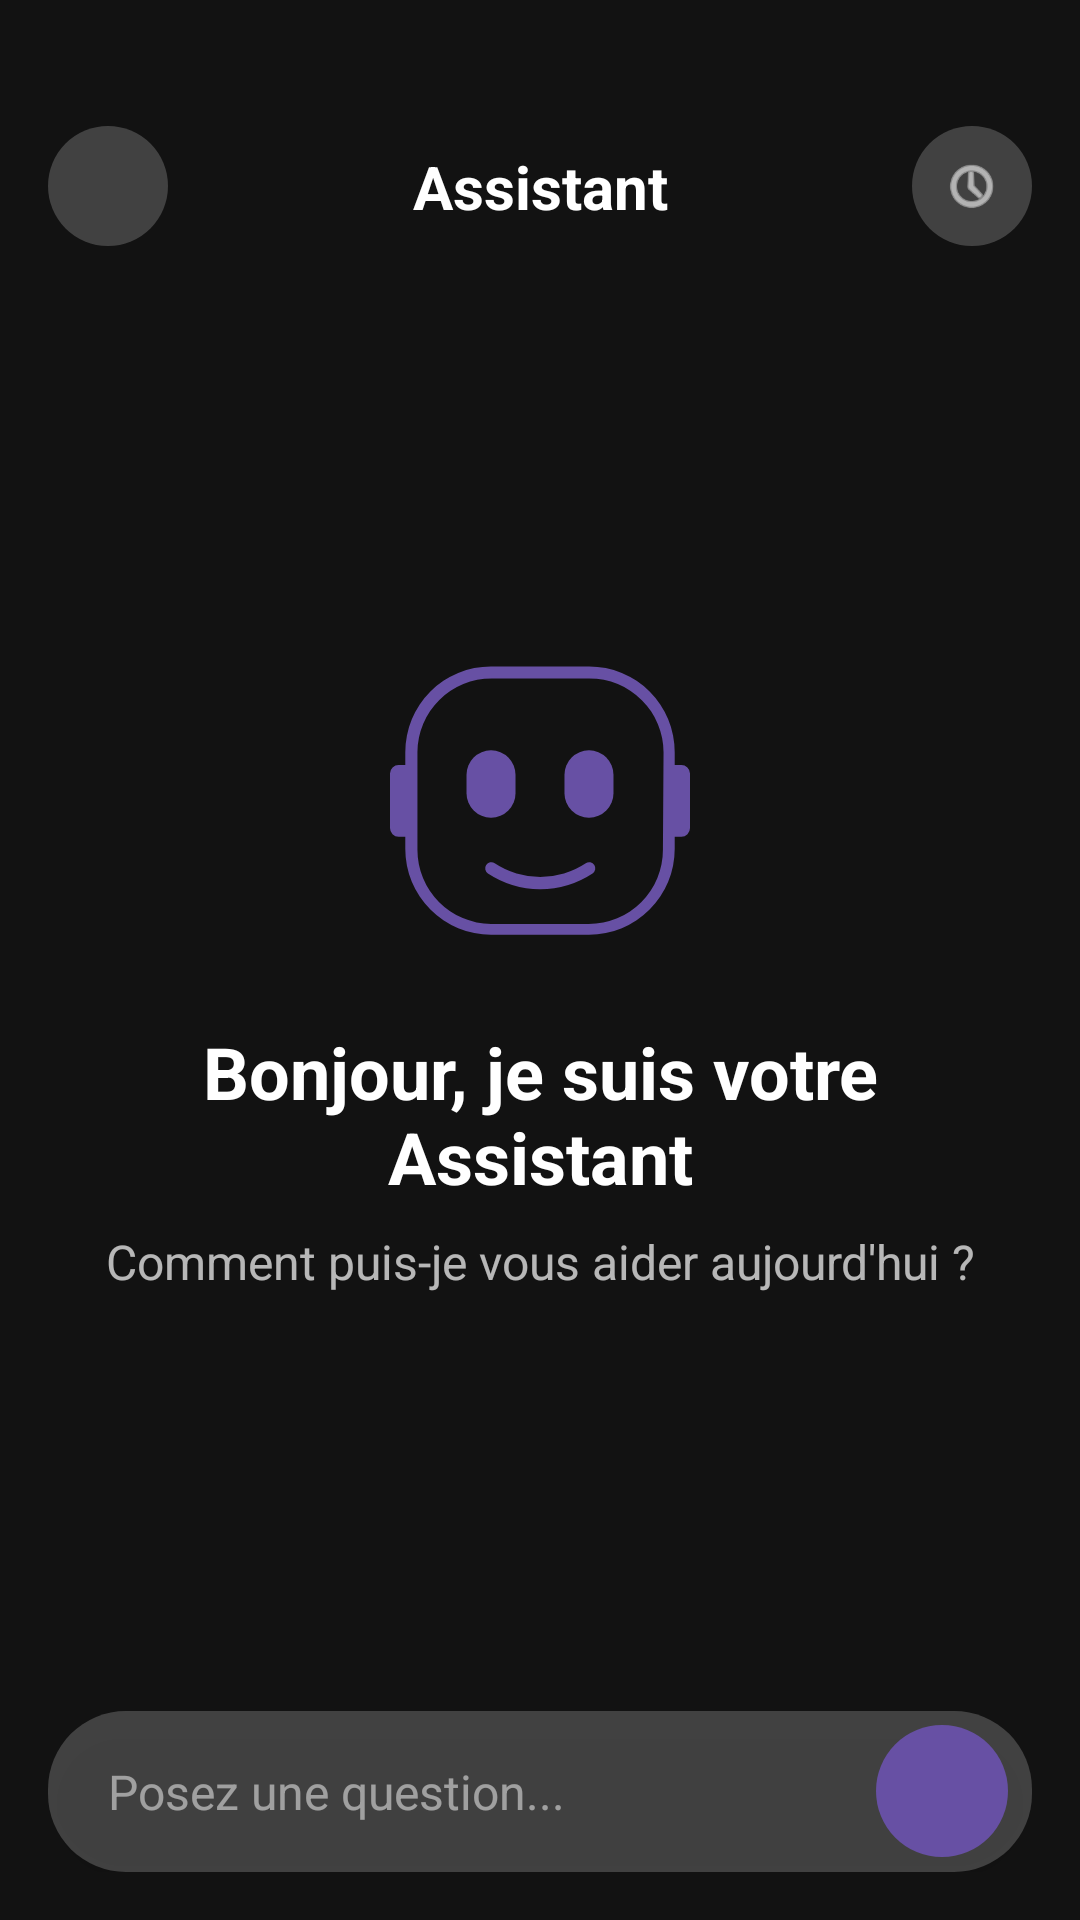

Icons on this 1080 x 1920 Android screen, each with the point to tap as point (x, y):
bot: point (540, 800)
recent history: point (972, 186)
